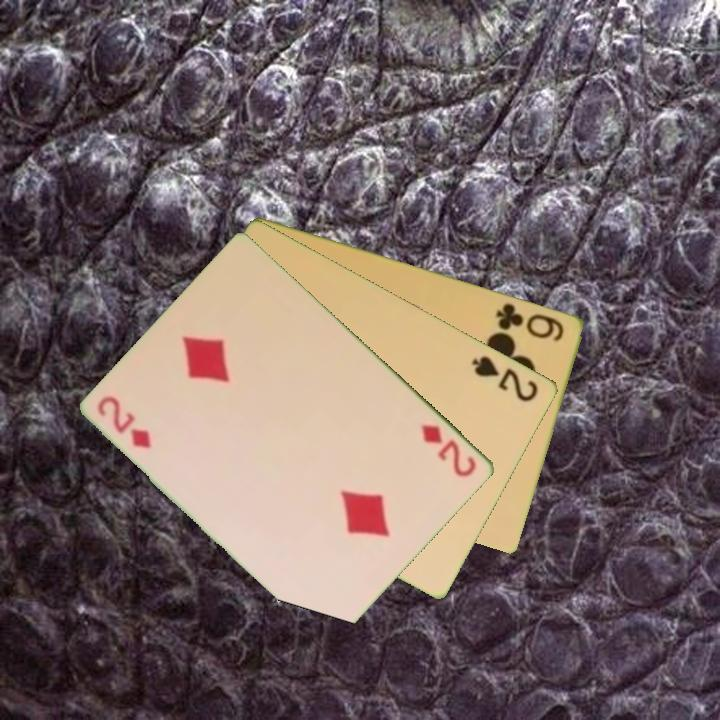2d: (418, 420, 480, 481), (94, 392, 155, 452)
2s: (468, 352, 542, 405)
6c: (493, 299, 568, 344)
